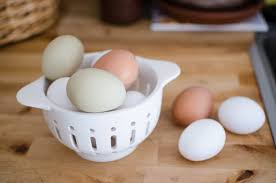Egg: (176, 115, 229, 165)
